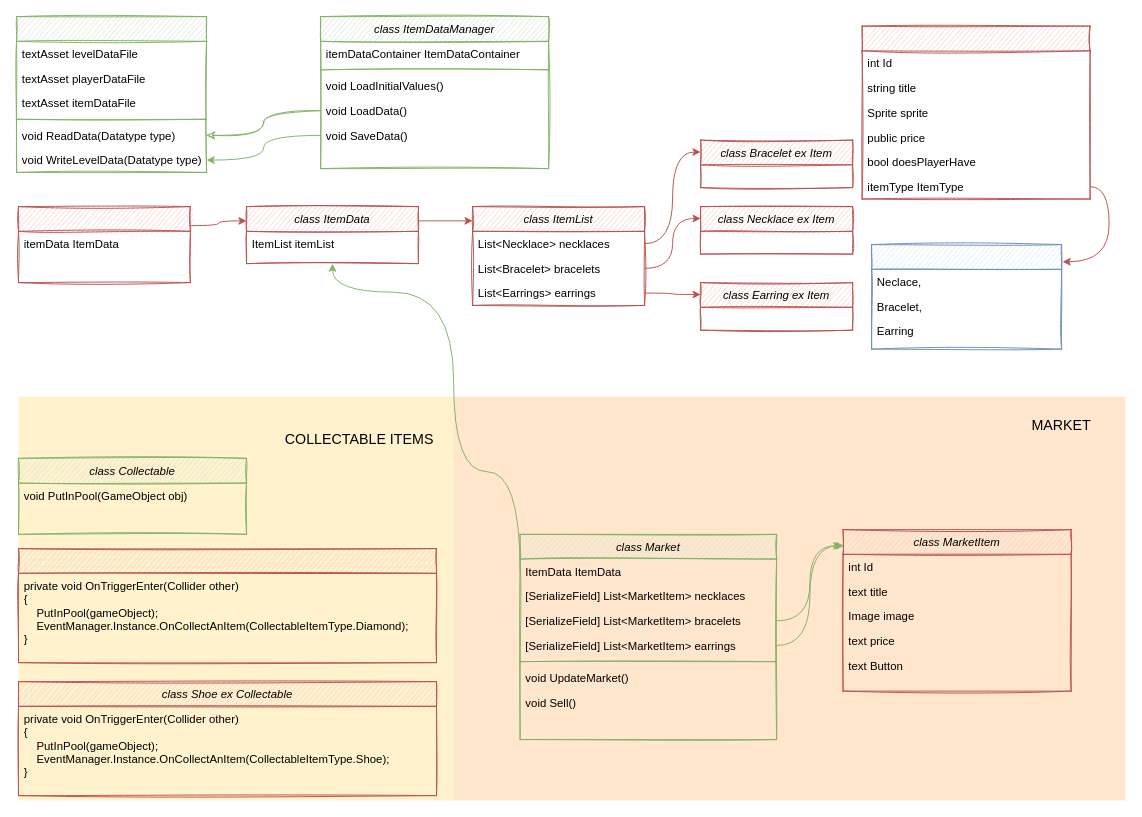
This 1142x817 diagram has some shape labels left out. Each missing label, with the box of its shape:
class Diamond ex Collectable: (18, 548, 437, 663)
class FileManager: (16, 16, 207, 172)
class Item: (861, 25, 1090, 199)
class ItemDataContainer: (18, 206, 190, 283)
enum ItemType: (871, 244, 1062, 349)
